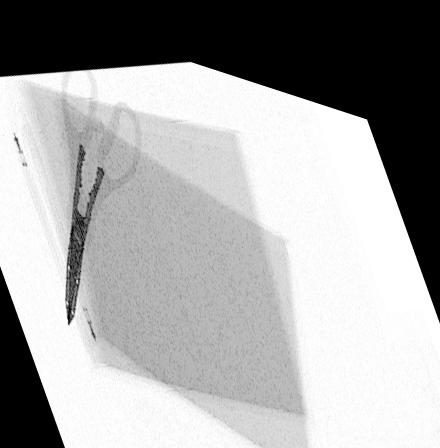Scissors: (57, 63, 143, 323)
